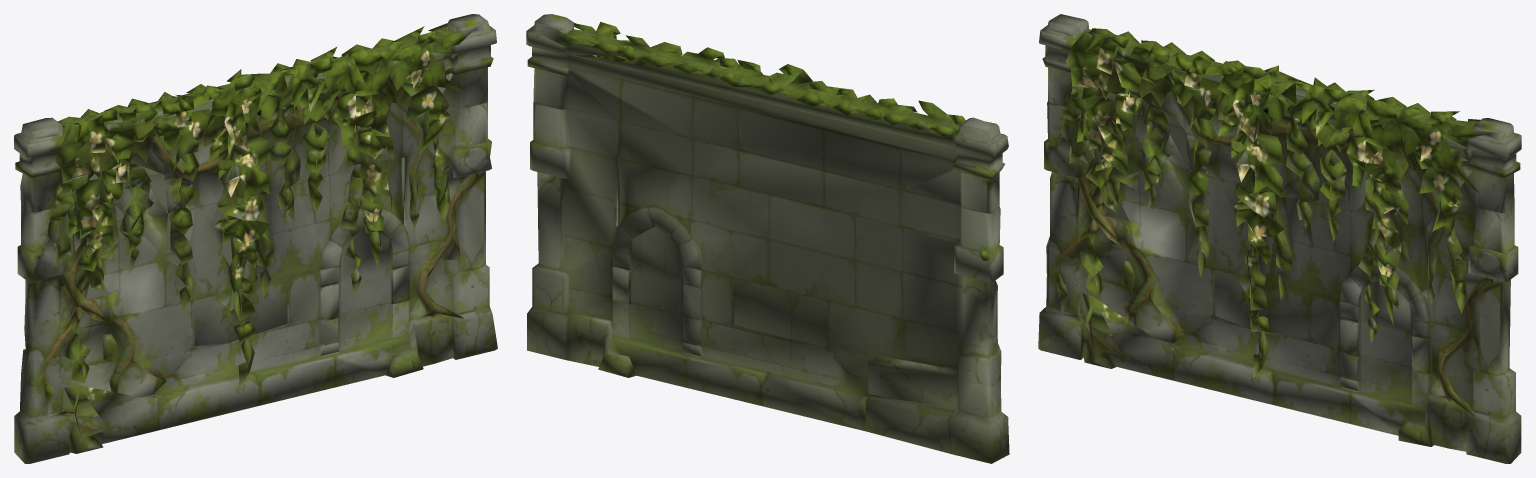
Rendered from overlay_1.fbx.
The picture shows the model from 3 angles, left to right: view 1: azimuth 30°, elevation 25°; view 2: azimuth 150°, elevation 25°; view 3: azimuth 330°, elevation 25°; orthographic projection.
Visible parts, largest first — view 1: overlay_1; view 2: overlay_1; view 3: overlay_1.
Boxes of the visible parts, x1,y1,x2,y2 form: overlay_1: (14,14,497,463); overlay_1: (526,14,1009,463); overlay_1: (1038,14,1521,463).
Size of the model in its own units: 3.9 by 2.65 by 0.3.
Materials: 1 (1 with a texture image).
